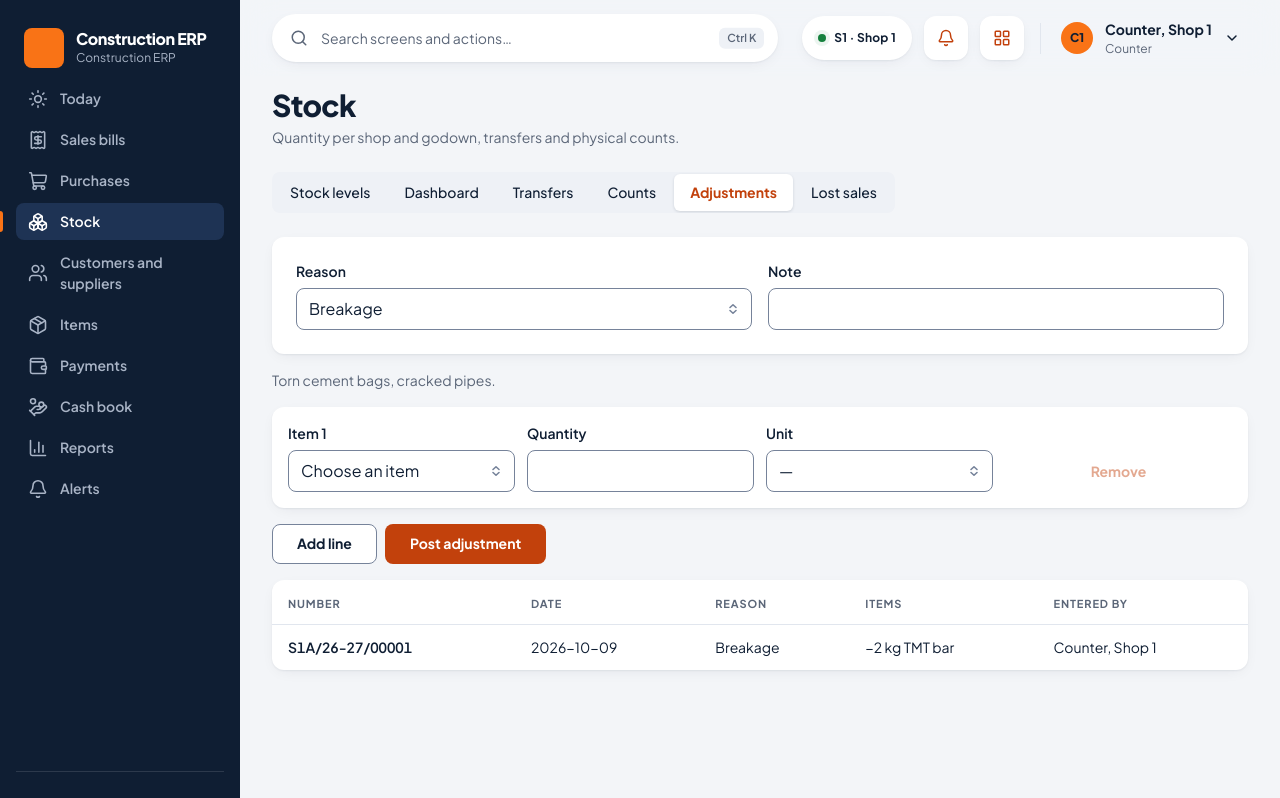
Test: Stock adjustments › asks for the owner's PIN when an adjustment is above the limit
This screenshot has width=1280, height=798.
Select "Theft" in the dropdown labelled "Reason" at (524, 308), box [296, 288, 752, 330]
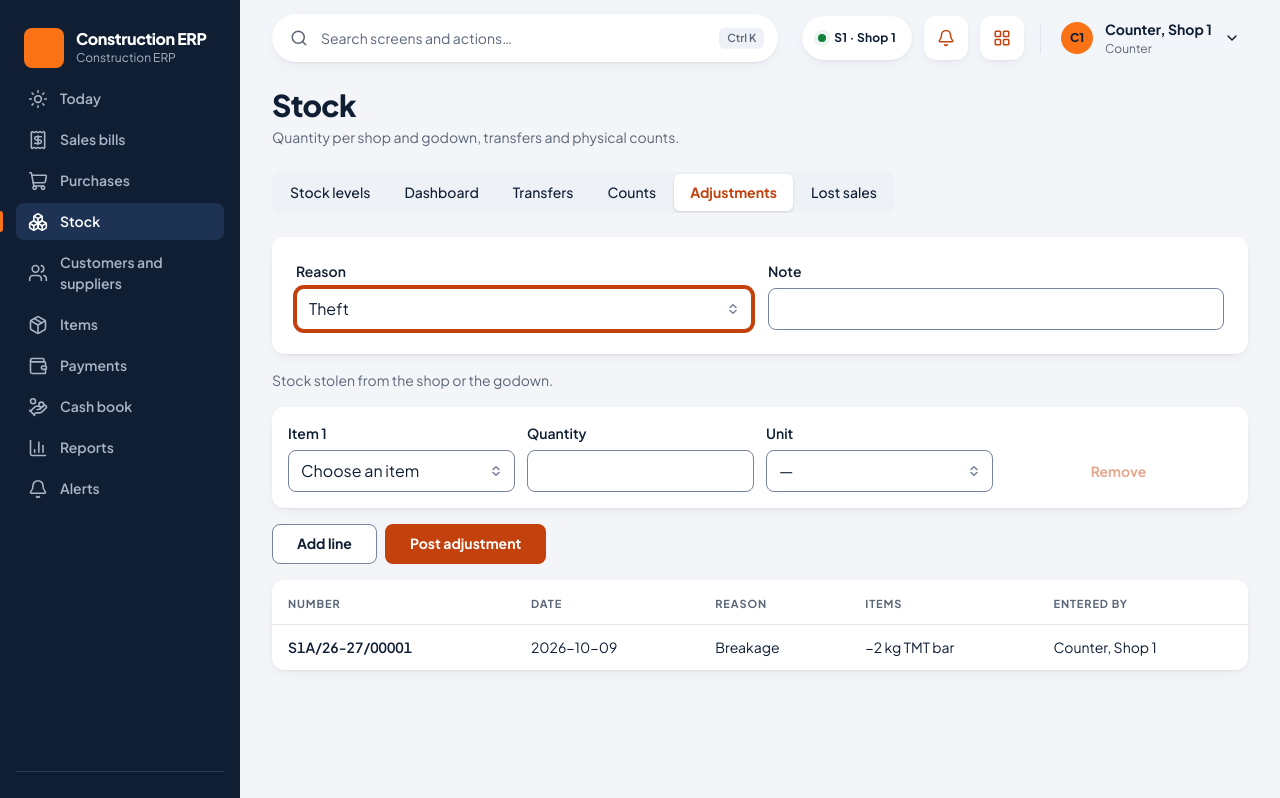
Select "TMT bar 12 mm Fe500D" in the dropdown labelled "Item 1" at (402, 470), box [288, 450, 515, 492]
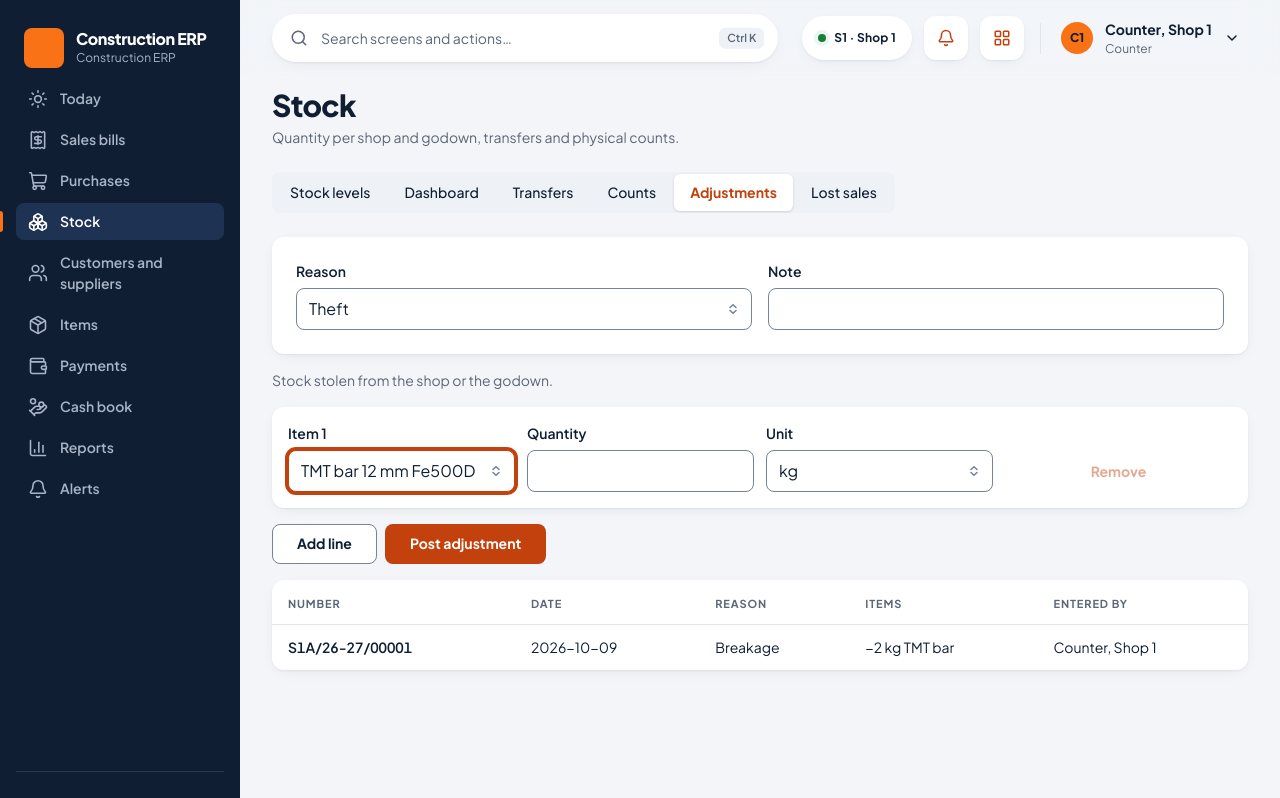
Type "250" into the field labelled "Quantity" at (640, 470), box [527, 450, 754, 492]
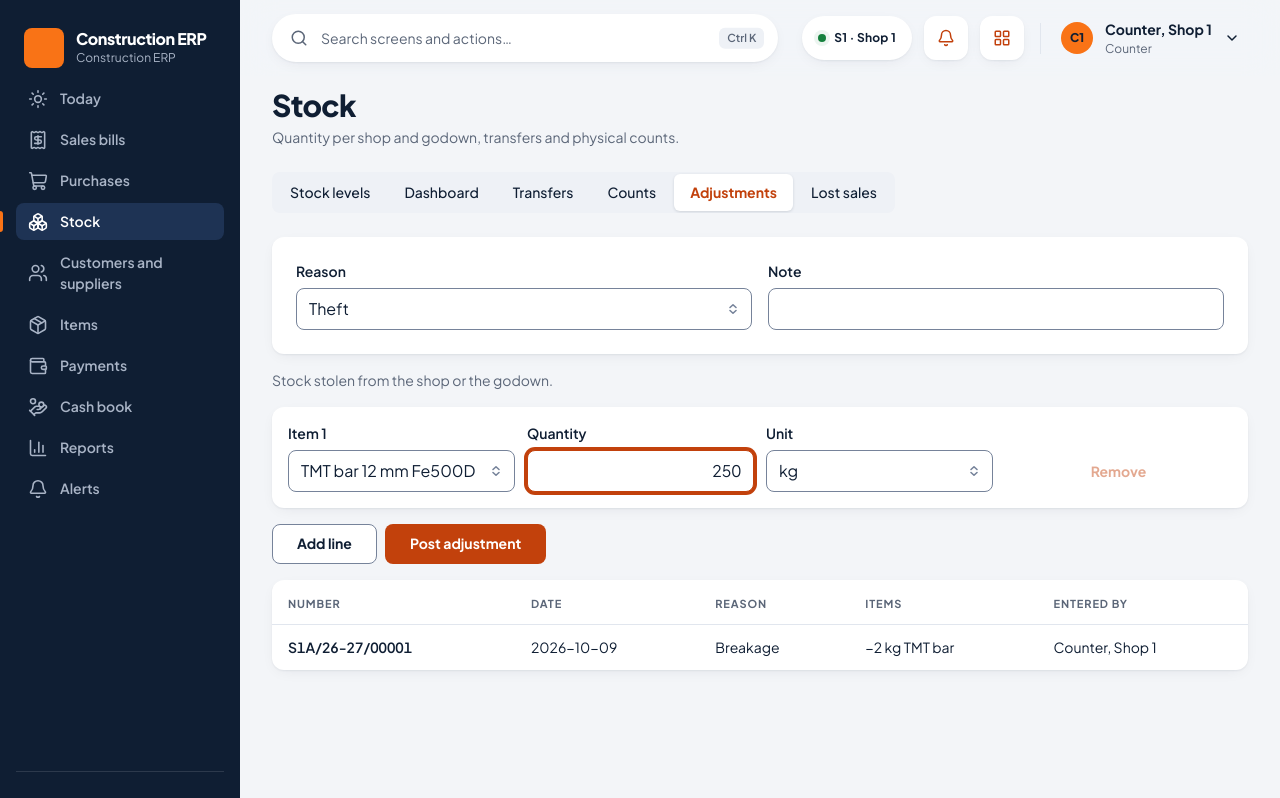
Click the button "Post adjustment" at (466, 544), box [385, 524, 546, 564]
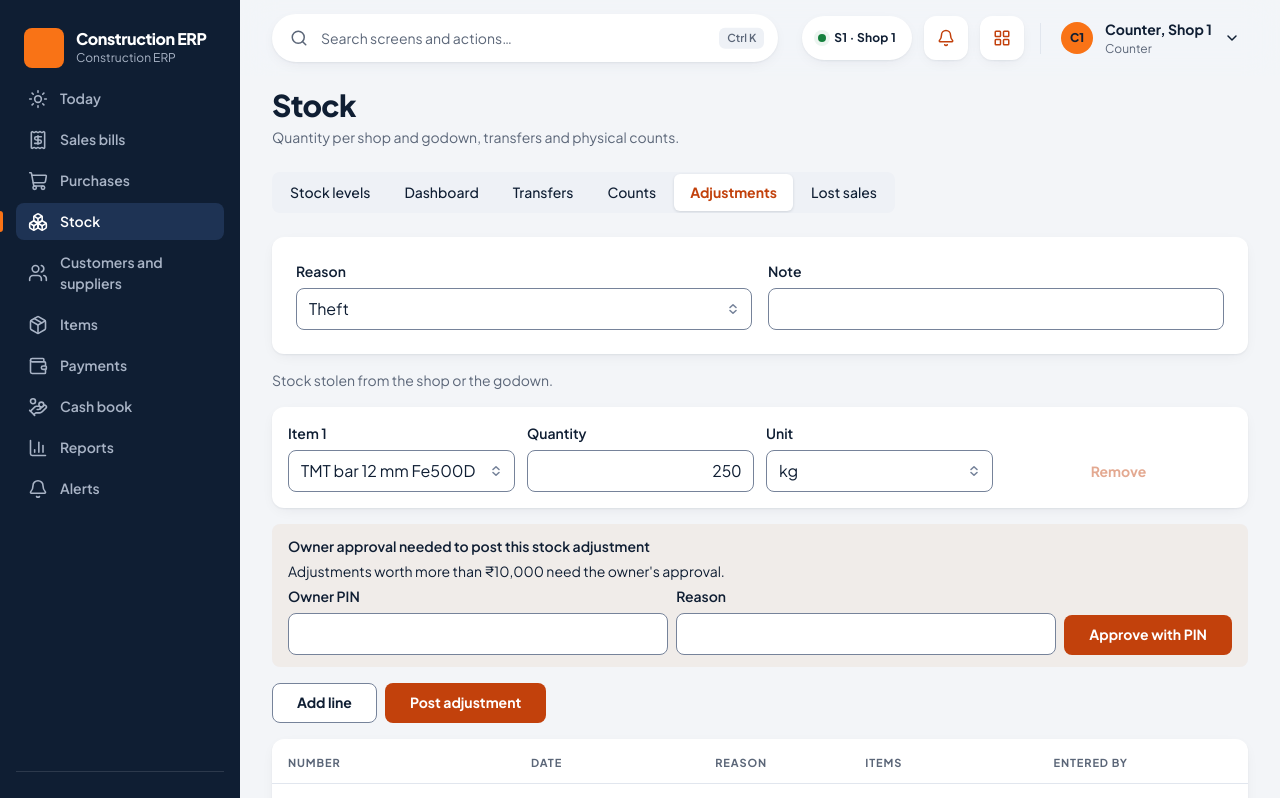
Check: the text "Owner approval needed to post this stock adjustment" is shown, box [288, 536, 650, 554]
